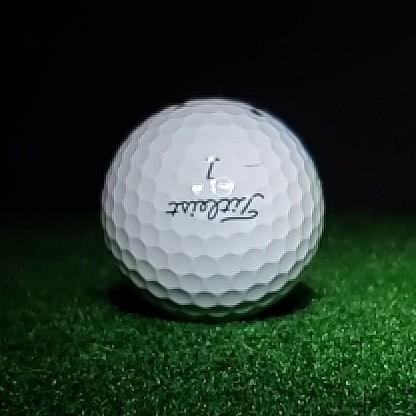golfball: (103, 101, 323, 322)
